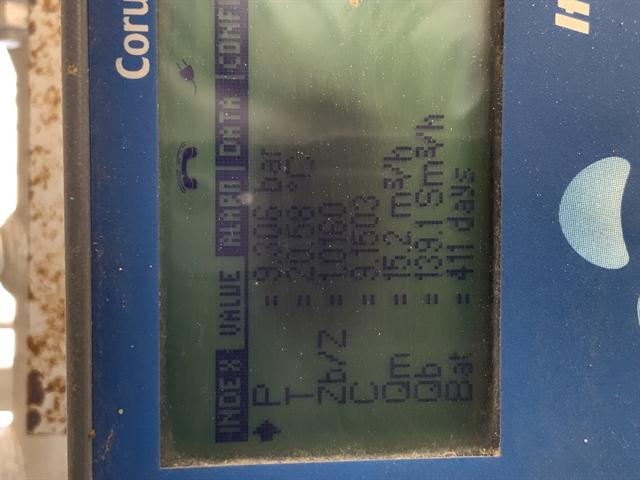digital_screen: (157, 0, 509, 470)
